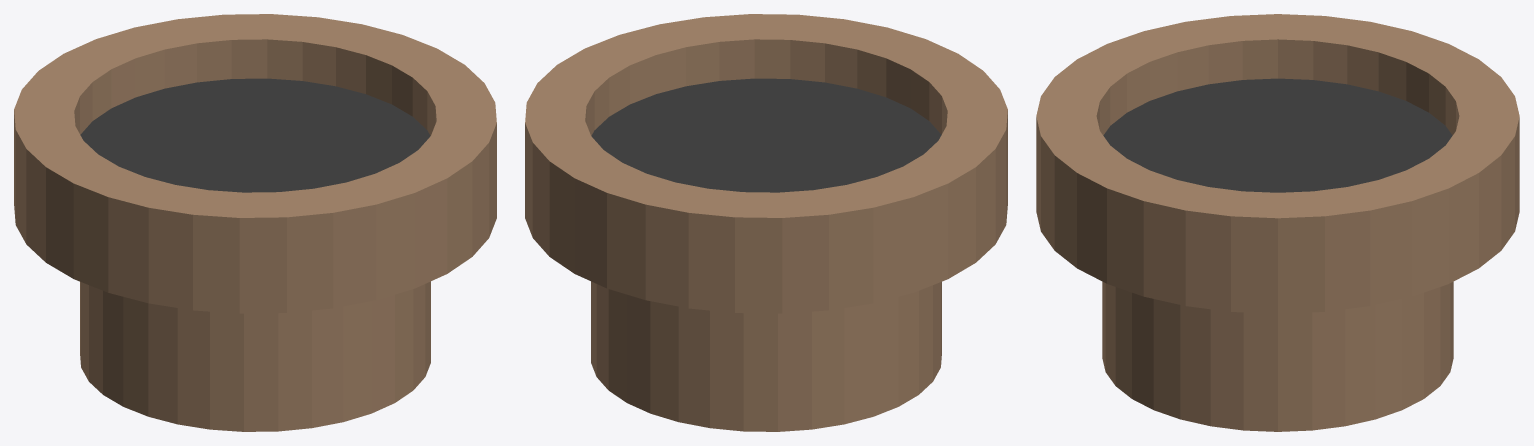
The picture shows the model from 3 angles, left to right: view 1: azimuth 30°, elevation 25°; view 2: azimuth 150°, elevation 25°; view 3: azimuth 270°, elevation 25°; orthographic projection.
Visible parts, largest first — view 1: 柱体.001, 柱体, 圆环; view 2: 柱体.001, 柱体, 圆环; view 3: 柱体.001, 柱体, 圆环.
Boxes of the visible parts, x1,y1,x2,y2 form: 柱体.001: (14,14,496,313); 柱体: (80,281,430,431); 圆环: (80,78,430,192); 柱体.001: (525,14,1007,313); 柱体: (591,281,941,431); 圆环: (591,78,941,192); 柱体.001: (1036,14,1519,313); 柱体: (1102,281,1453,431); 圆环: (1103,78,1452,192).
Bounding box in the file's own units: 1.01 × 0.5575 × 1.01.
